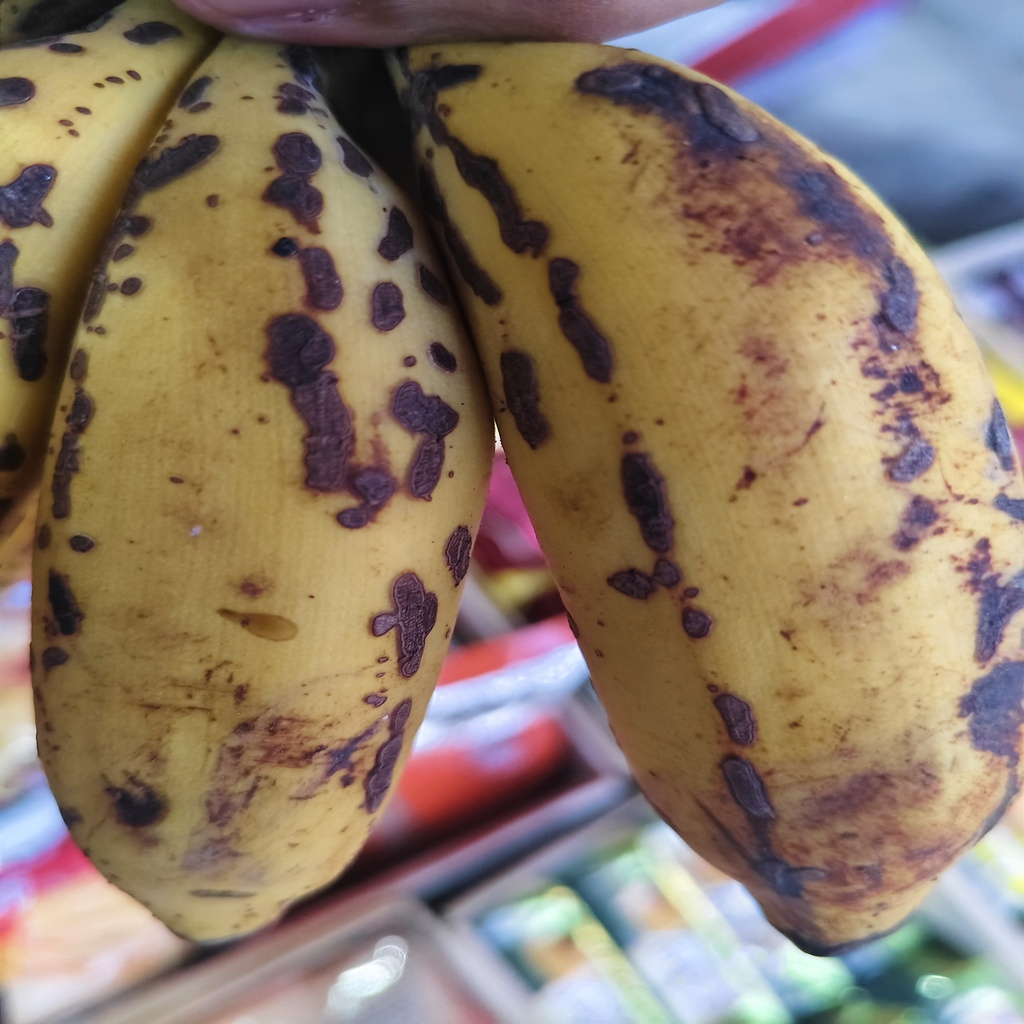unhealthy: (381, 42, 1023, 928), (22, 83, 493, 933)
